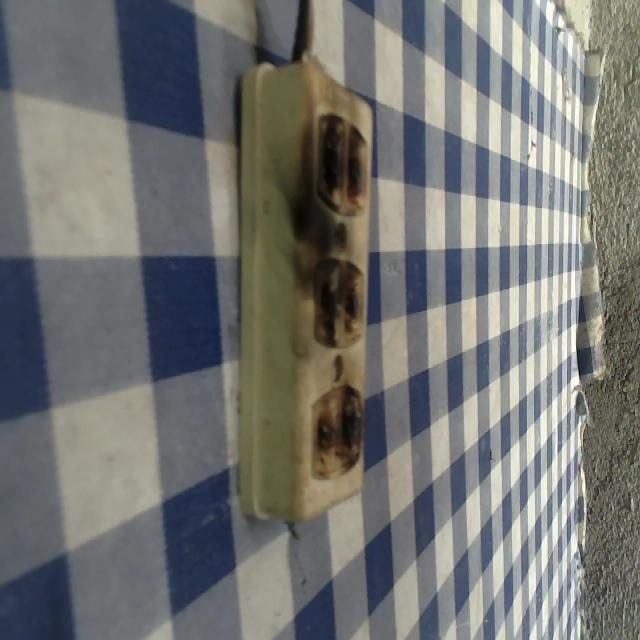-: (309, 250, 368, 346), (313, 112, 367, 215), (310, 380, 365, 481)
